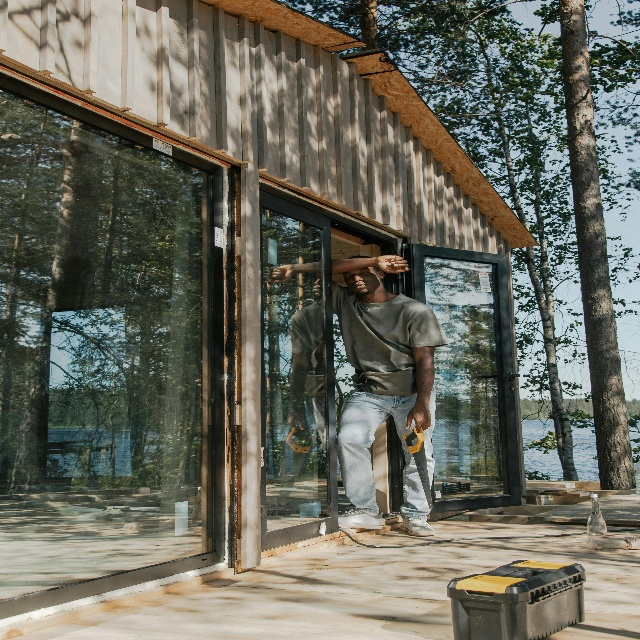Sin_guantes: (405, 405, 432, 433), (376, 253, 410, 274)
